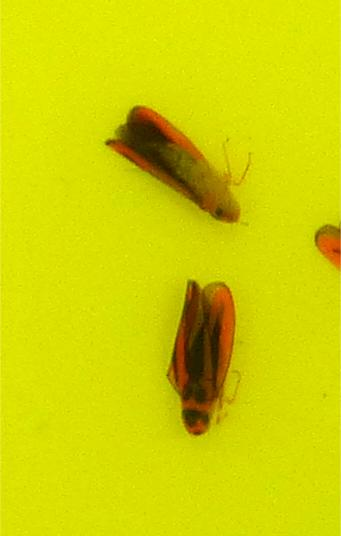Hemiptera: (100, 100, 241, 231), (165, 278, 241, 436)
